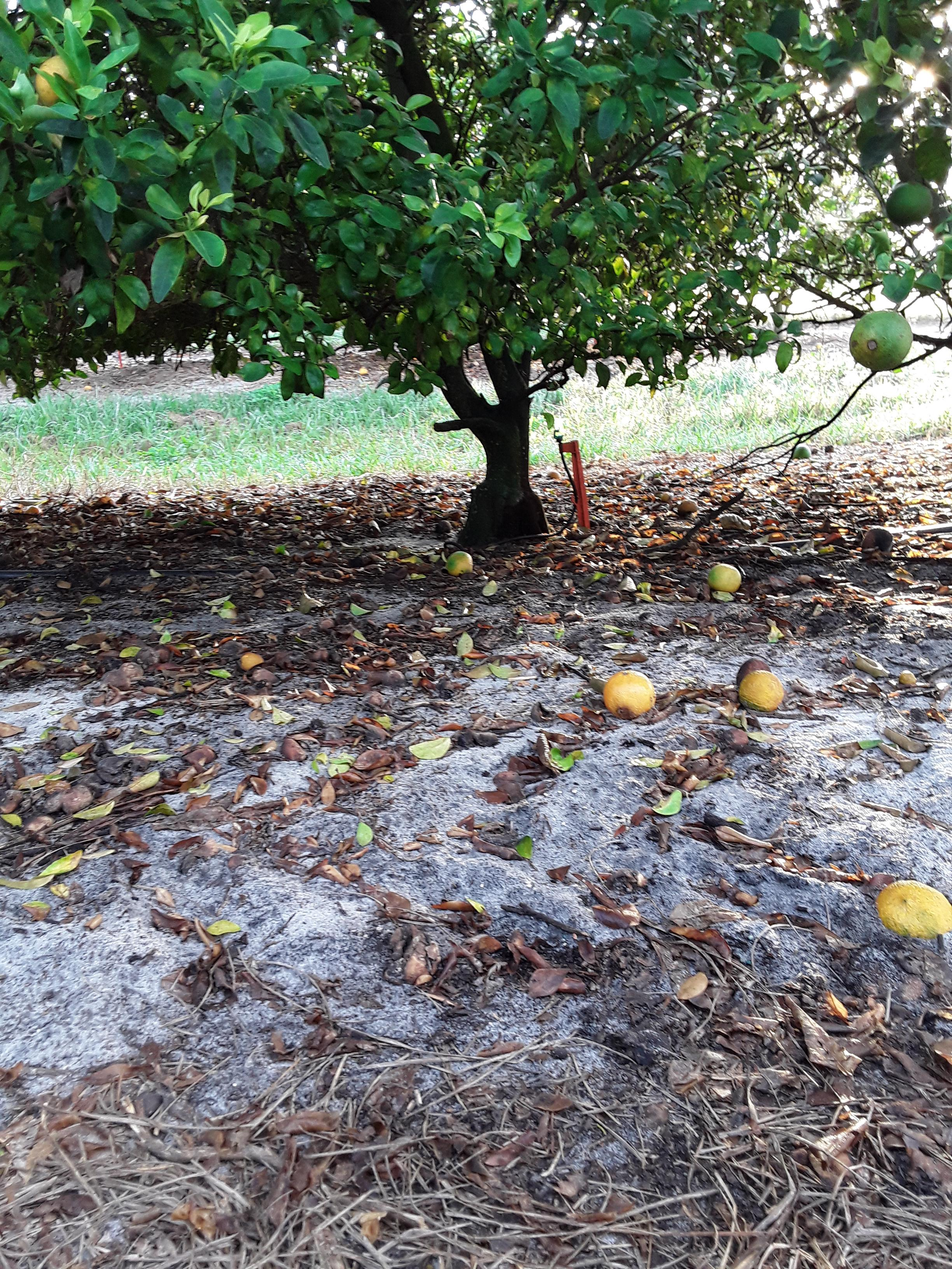fruit_on_ground: (23, 50, 108, 119), (851, 302, 919, 376), (885, 177, 938, 230)
fruit_on_tree: (861, 859, 952, 961), (598, 665, 668, 725), (730, 669, 789, 717), (706, 559, 755, 596), (444, 547, 481, 584), (738, 639, 767, 678), (100, 665, 132, 698), (119, 649, 145, 683), (278, 736, 309, 764), (238, 650, 265, 671), (677, 496, 701, 516), (384, 669, 407, 689), (435, 518, 458, 537), (660, 491, 672, 503)
